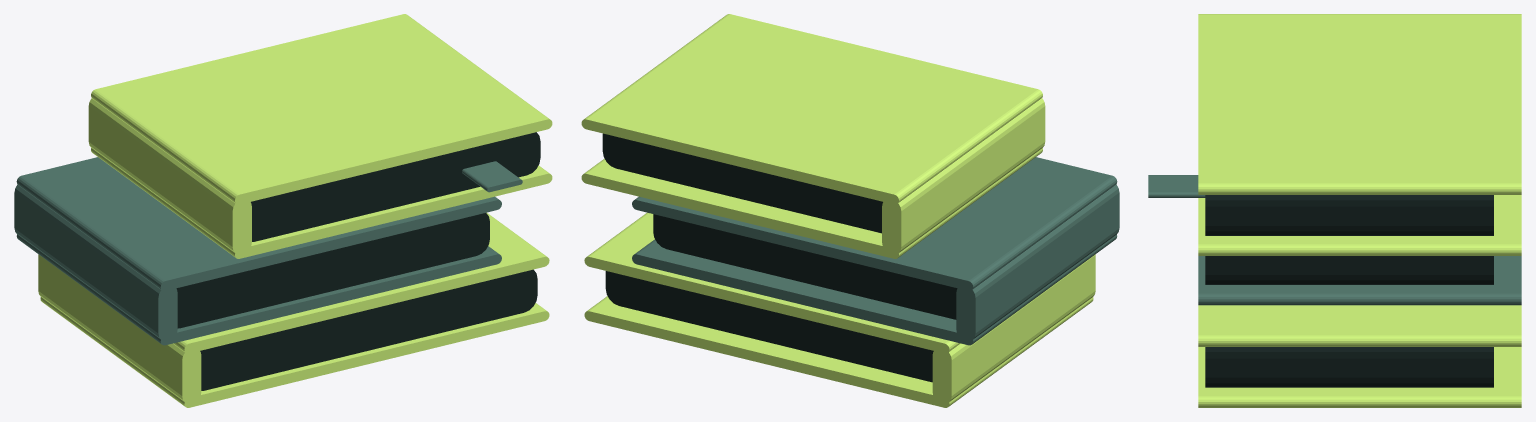
The model's file is books.glb.
The picture shows the model from 3 angles, left to right: view 1: azimuth 30°, elevation 25°; view 2: azimuth 150°, elevation 25°; view 3: azimuth 270°, elevation 25°; orthographic projection. The views are drawn at different scales.
Visible parts, largest first — view 1: cover 2 0.175, cover 1 0.175, pages 0, pages 1, pages 2, spine 2, spine 1, spine 0, cover 0 0.175, cover 0 0, cover 1 0, cover 2 0 (+1 smaller); view 2: cover 2 0.175, cover 1 0.175, pages 0, pages 1, pages 2, cover 0 0, spine 1, cover 1 0, spine 2, cover 2 0, spine 0, cover 0 0.175; view 3: cover 2 0.175, cover 0 0.175, pages 0, pages 2, pages 1, cover 0 0, cover 2 0, cover 1 0, ribbon.
Boxes of the visible parts, x1,y1,x2,y2 form: cover 2 0.175: [91, 14, 552, 204]; cover 1 0.175: [16, 157, 501, 290]; pages 0: [200, 269, 537, 390]; pages 1: [176, 213, 489, 328]; pages 2: [251, 132, 540, 241]; spine 2: [88, 98, 251, 254]; spine 1: [14, 184, 177, 341]; spine 0: [38, 254, 201, 403]; cover 0 0.175: [173, 212, 549, 353]; cover 0 0: [40, 297, 549, 407]; cover 1 0: [16, 234, 501, 345]; cover 2 0: [91, 148, 552, 258]; cover 2 0.175: [581, 14, 1042, 204]; cover 1 0.175: [632, 157, 1117, 290]; pages 0: [605, 271, 933, 382]; pages 1: [653, 214, 957, 319]; pages 2: [602, 133, 882, 233]; cover 0 0: [584, 296, 1093, 407]; spine 1: [956, 184, 1119, 341]; cover 1 0: [632, 234, 1117, 345]; spine 2: [882, 98, 1045, 254]; cover 2 0: [581, 148, 1042, 258]; spine 0: [932, 254, 1095, 403]; cover 0 0.175: [584, 212, 960, 353]; cover 2 0.175: [1198, 14, 1521, 194]; cover 0 0.175: [1198, 305, 1521, 346]; pages 0: [1205, 347, 1493, 387]; pages 2: [1205, 195, 1493, 235]; pages 1: [1205, 256, 1493, 284]; cover 0 0: [1198, 347, 1521, 407]; cover 2 0: [1198, 195, 1521, 255]; cover 1 0: [1198, 256, 1521, 305]; ribbon: [1148, 175, 1205, 197].
Bounding box in the file's own units: 1.33 × 0.647 × 0.97.
